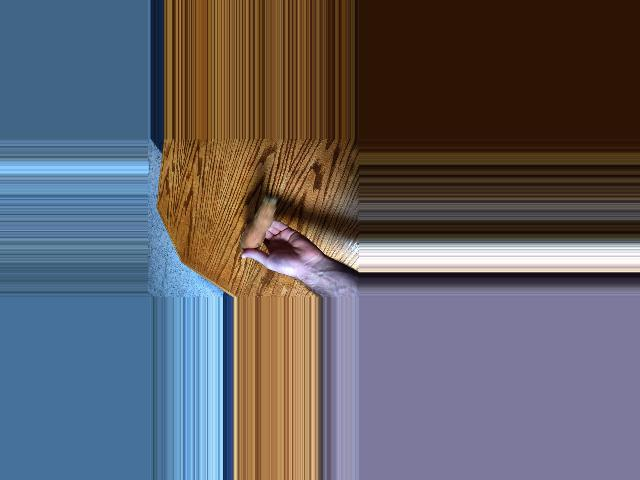sweet_potato: (240, 195, 280, 255)
